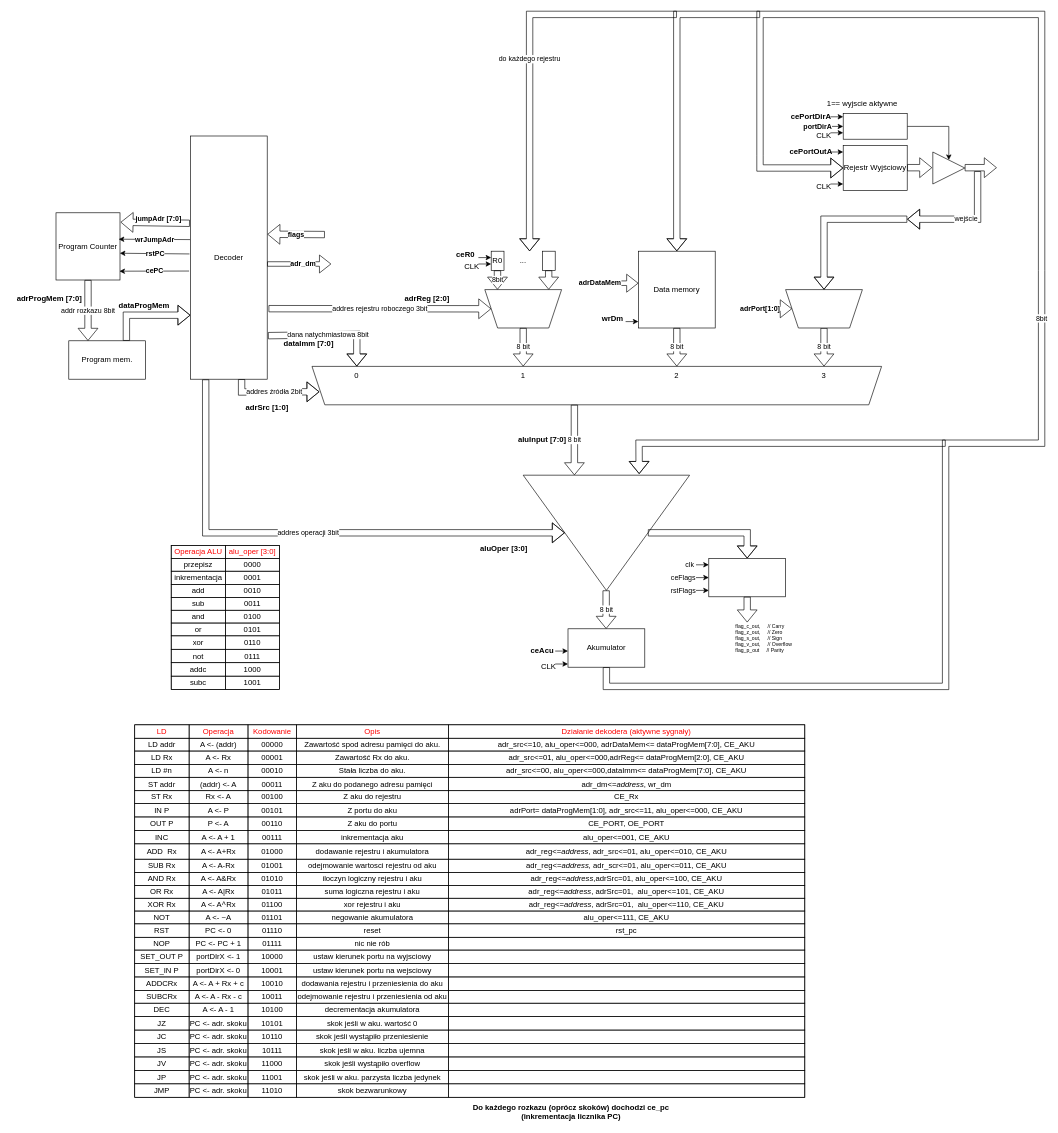
Some shapes in this 1058 by 1133 pixel diagram are drawn without their labels. Each missing label, with the centre of its shape:
flags_register: the point at 747,577
R7: the point at 548,260
Rejestr kierunku: the point at 875,126
